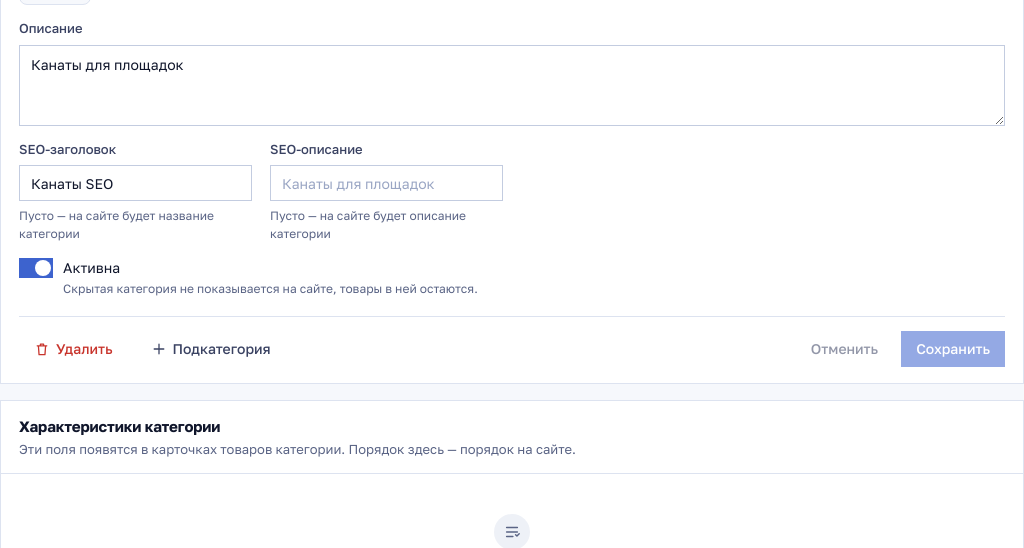
удаление и восстановление категории › удаление — подтверждение, DELETE и режим удалённой категории
(page scrolled)
Click the button "Удалить". click: click(73, 349)
box: [19,331,128,367]
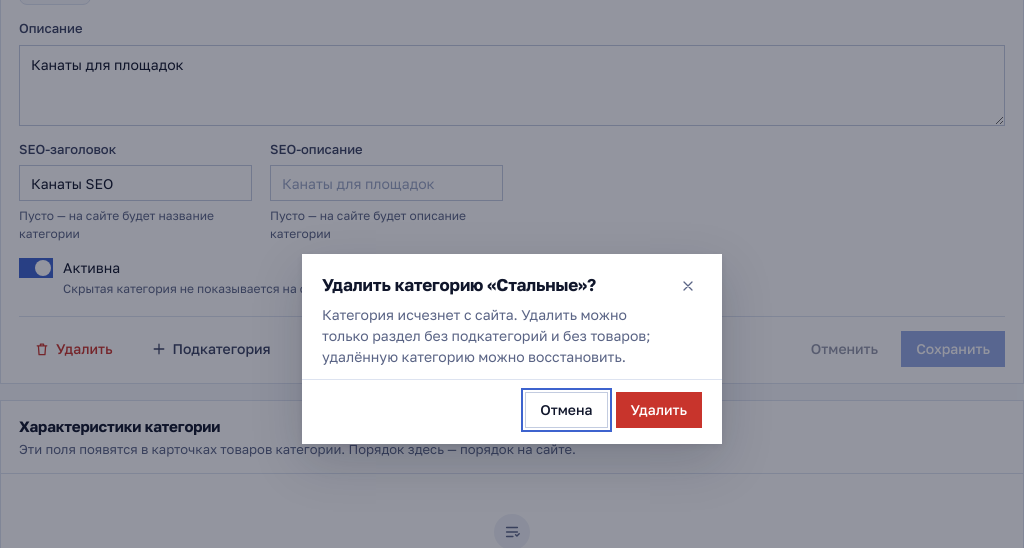
Check: the dialog "Удалить категорию «Стальные»?" shows "без подкатегорий и без товаров", box [322,306,650,365]
Click the button "Удалить". click: click(659, 410)
box: [616,392,702,428]
(page scrolled)
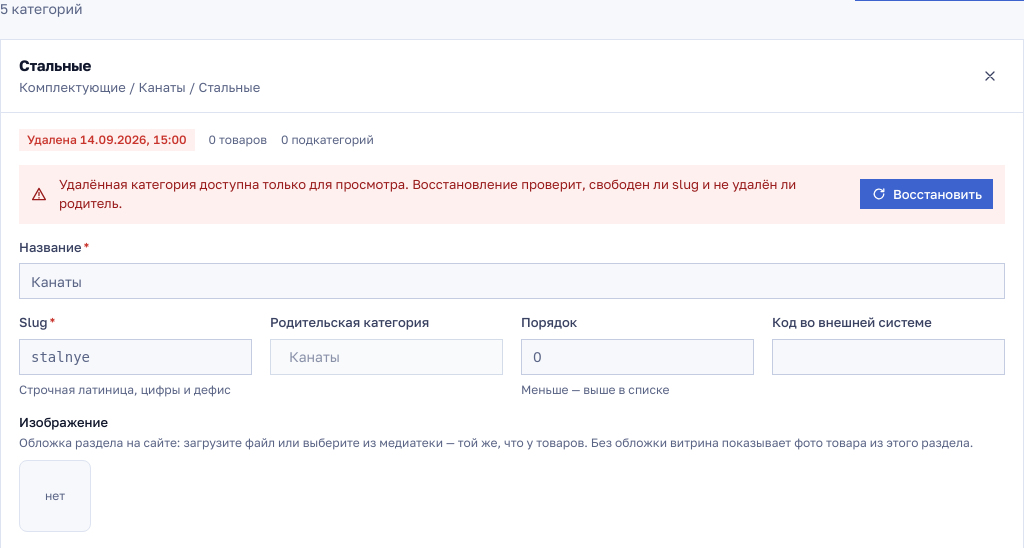
Check: the button "Восстановить" is shown, box [860,179,993,209]
Check: the text "Удалена 14.09.2026, 15:00" is shown, box [19,129,195,151]
Check: the field labelled "Название*" is disabled, box [19,263,1005,299]
